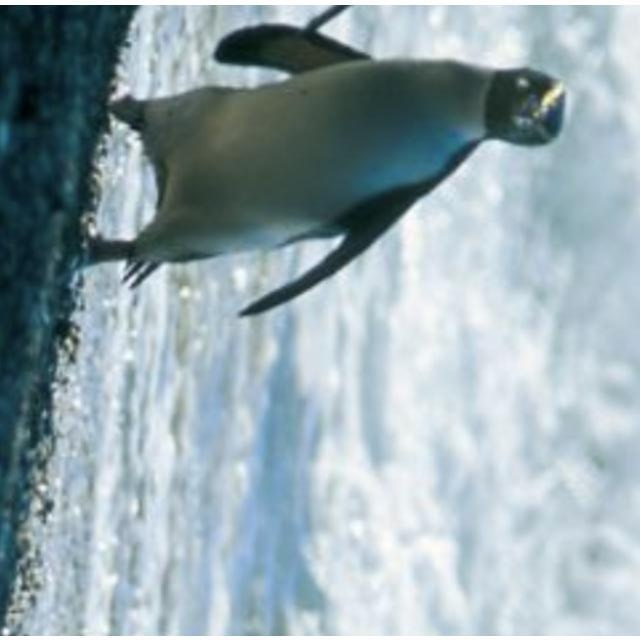penguin: (79, 24, 569, 319)
